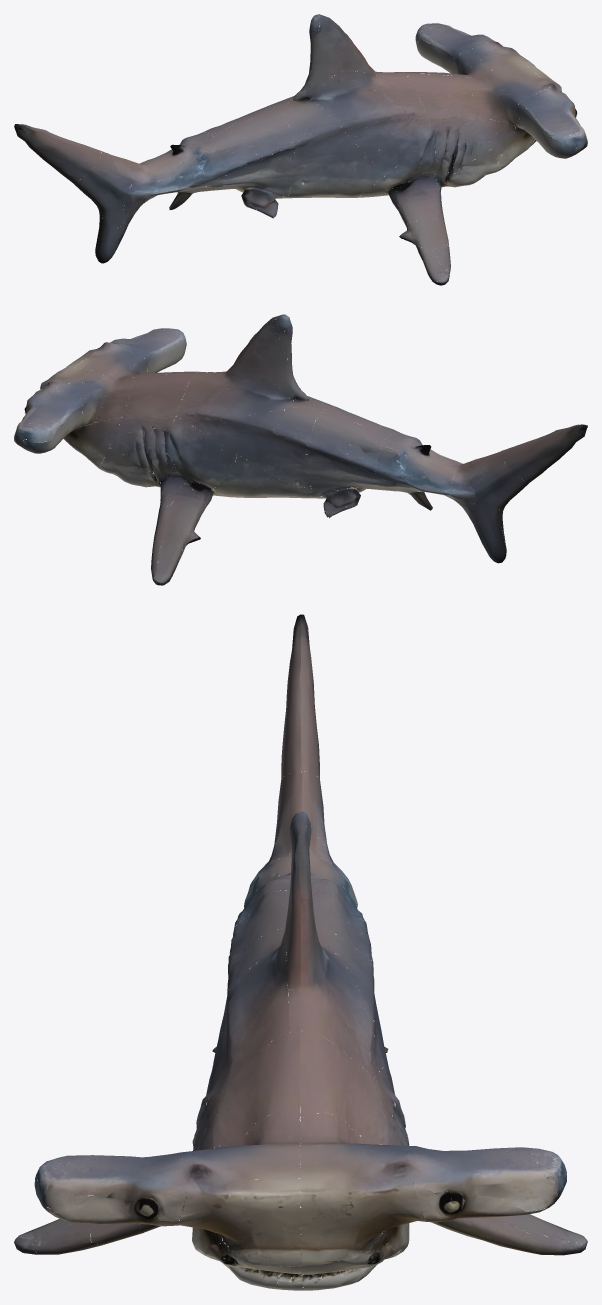
The model's file is hammerhead.glb.
The picture shows the model from 3 angles, top to bottom: view 1: azimuth 30°, elevation 25°; view 2: azimuth 150°, elevation 25°; view 3: azimuth 270°, elevation 25°; orthographic projection. The views are drawn at different scales.
Parts seen in each view (by area): view 1: tripo_node_cefe7637-6dd4-4ade-a1ab-b7bb479cb805; view 2: tripo_node_cefe7637-6dd4-4ade-a1ab-b7bb479cb805; view 3: tripo_node_cefe7637-6dd4-4ade-a1ab-b7bb479cb805.
Boxes of the visible parts, box(x1,y1,x2,y2) form: tripo_node_cefe7637-6dd4-4ade-a1ab-b7bb479cb805: box(14, 14, 587, 285); tripo_node_cefe7637-6dd4-4ade-a1ab-b7bb479cb805: box(14, 314, 587, 585); tripo_node_cefe7637-6dd4-4ade-a1ab-b7bb479cb805: box(14, 614, 587, 1290).
Bounding box in the file's own units: 1 × 0.4064 × 0.532.
Materials: 1 (1 with a texture image).
